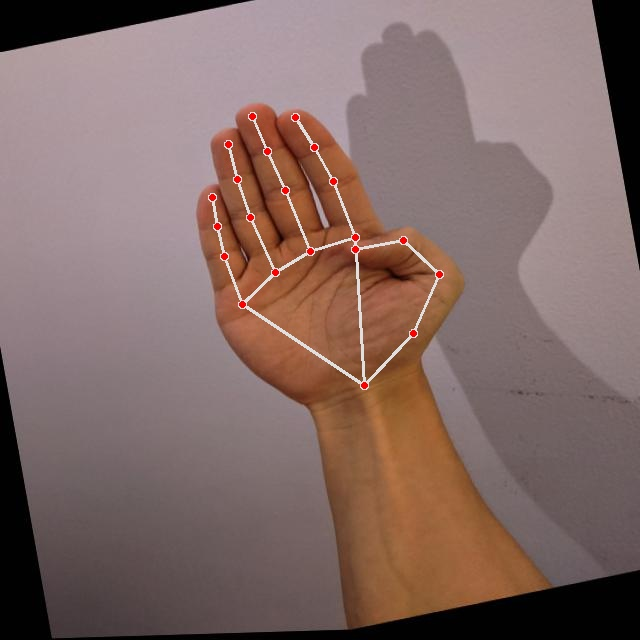B: (166, 63, 488, 438)
